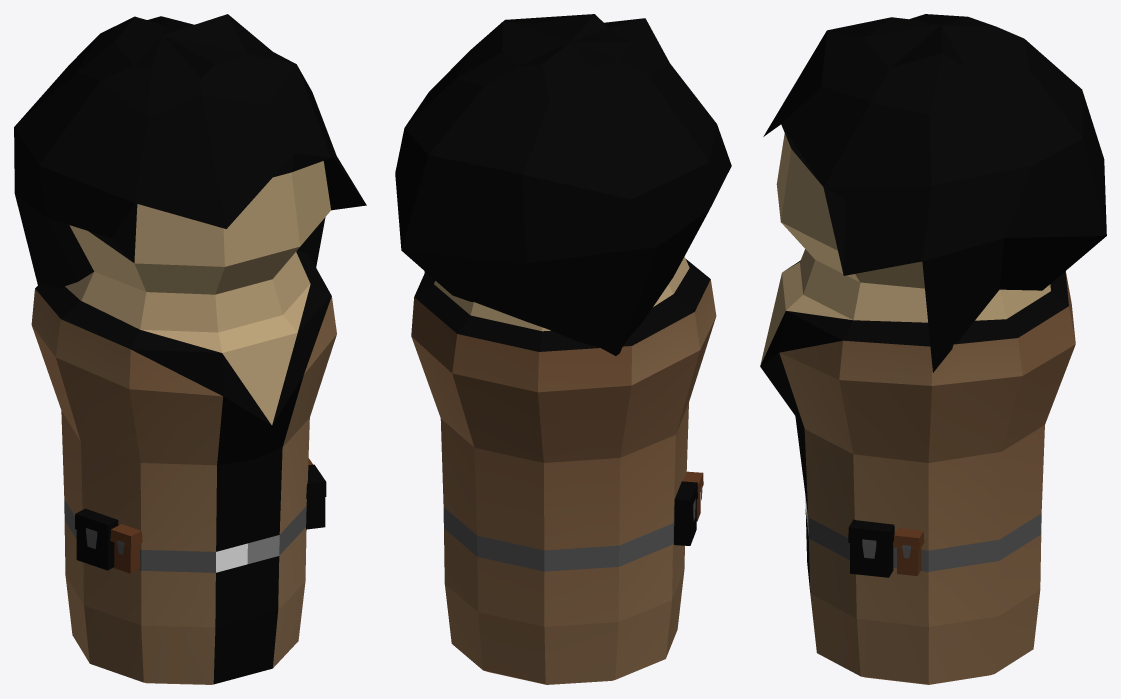
Rendered from player 3.fbx.
3 views of the same model, side by side, from view 1: azimuth 30°, elevation 25°; view 2: azimuth 150°, elevation 25°; view 3: azimuth 270°, elevation 25° (orthographic).
Visible parts, largest first — view 1: Sphere.009, Sphere.005, Cube.011, Cube.010, Cube.008; view 2: Sphere.009, Sphere.005, Cube.011; view 3: Sphere.009, Sphere.005, Cube.008, Cube.009.
Part boxes in pixels (<box>): Sphere.009: <box>31,250,336,684</box>; Sphere.005: <box>14,14,366,332</box>; Cube.011: <box>75,508,118,570</box>; Cube.010: <box>110,524,142,573</box>; Cube.008: <box>306,464,326,529</box>; Sphere.009: <box>411,259,716,684</box>; Sphere.005: <box>395,14,731,355</box>; Cube.011: <box>674,481,697,545</box>; Sphere.009: <box>760,260,1075,684</box>; Sphere.005: <box>763,14,1106,372</box>; Cube.008: <box>848,519,894,577</box>; Cube.009: <box>893,528,924,575</box>.
Size of the model in its own units: 170 by 334 by 172.
